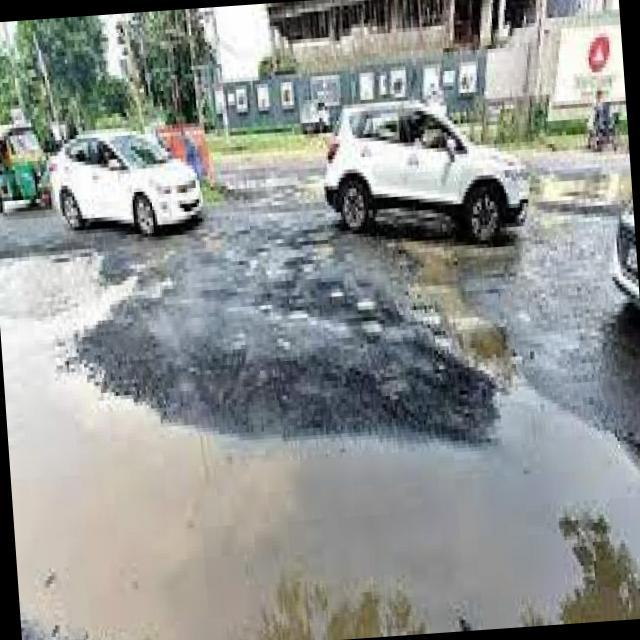Burst: (0, 213, 640, 640)
